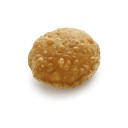poori: (26, 27, 101, 87)
